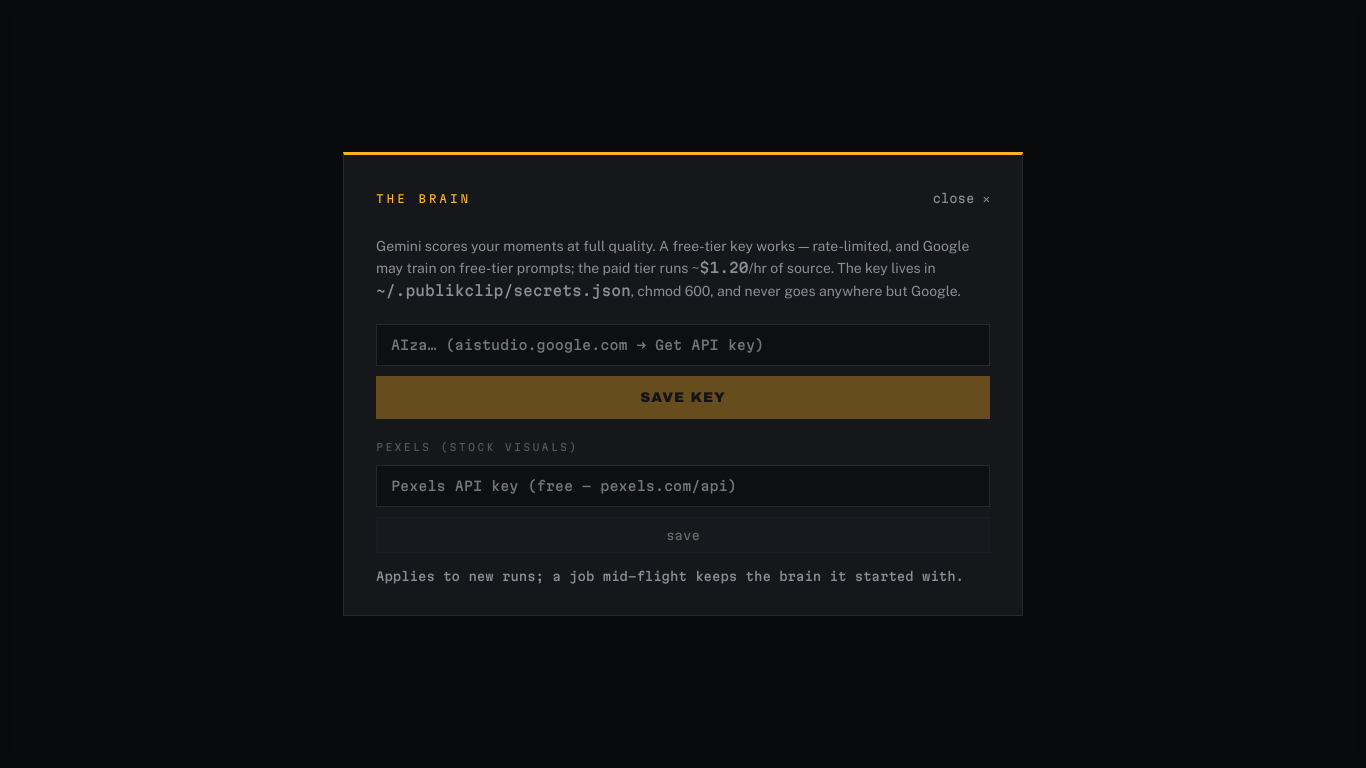
it: KeyModal (F6) › a verified key reads SAVED with no caveat
The width and height of the screenshot is (1366, 768).
Type "AIza-test" into the password field with placeholder "AIza… (aistudio.google.com → Get API key)" at (683, 345), box 376,324 -> 990,366
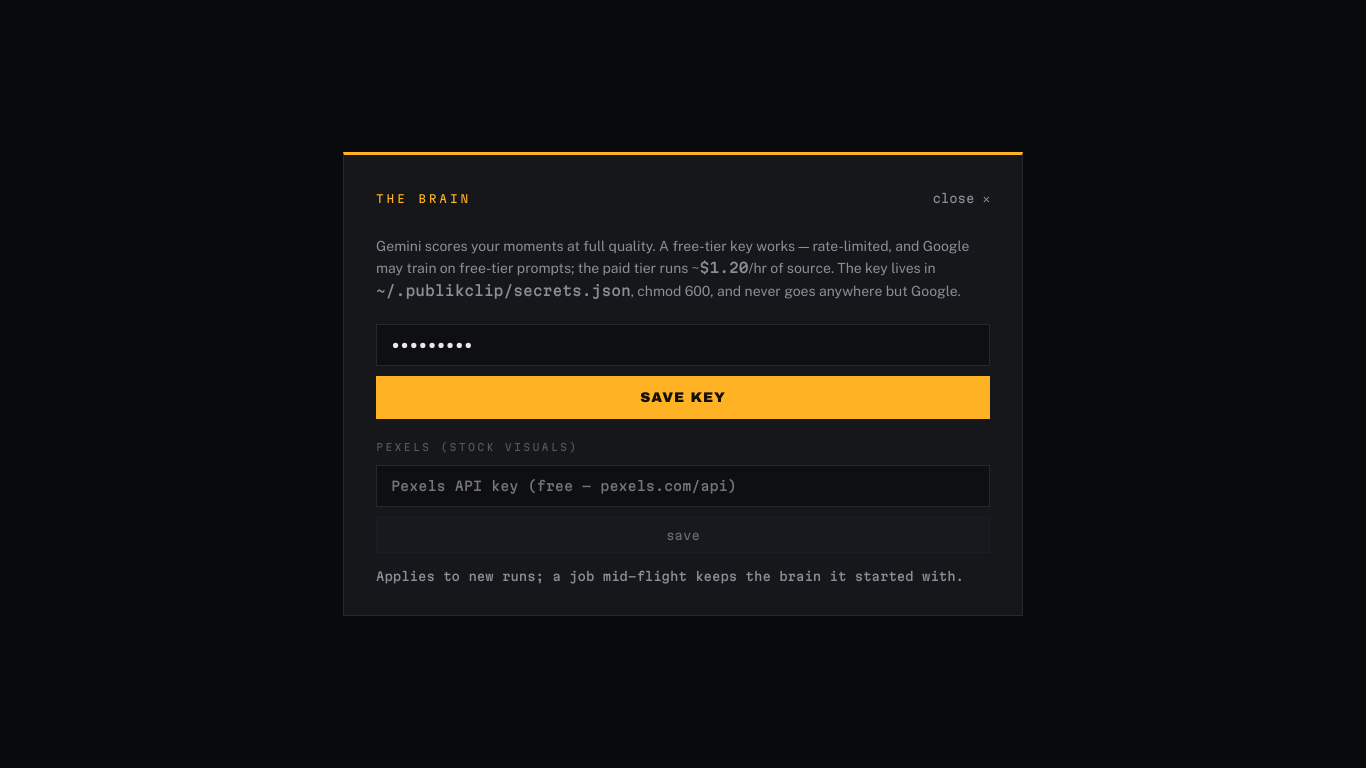
Click the button "SAVE KEY" at (683, 398), box 376,376 -> 990,419
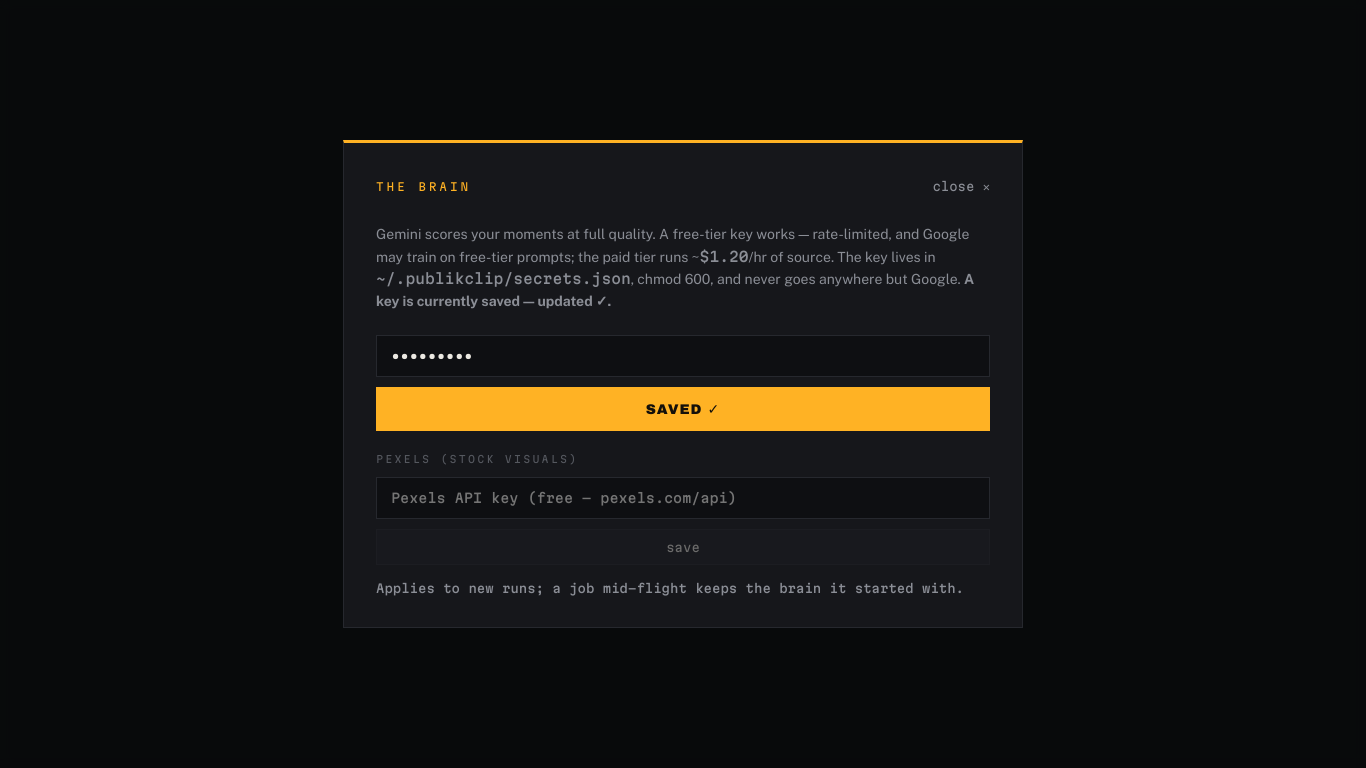
Result: the button "SAVE KEY" is gone
Result: the button "SAVED ✓" is shown at 376,387 -> 990,431
